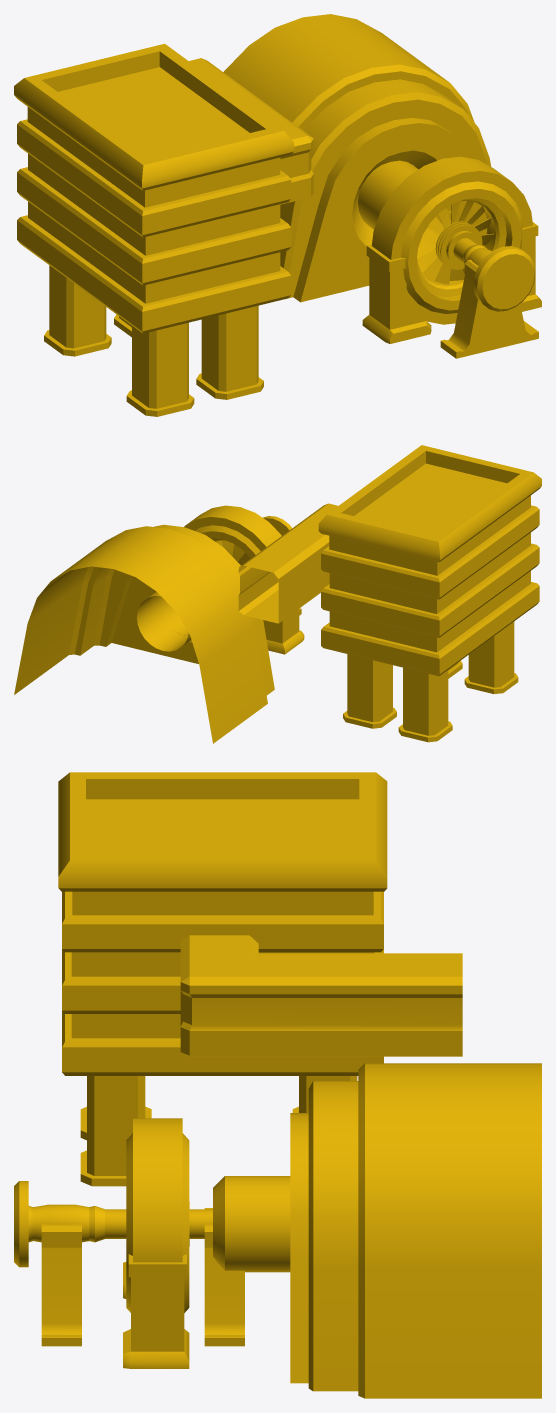
The model's file is Administration_Turbine.fbx.
3 renders of one model, top to bottom at view 1: azimuth 30°, elevation 25°; view 2: azimuth 150°, elevation 25°; view 3: azimuth 270°, elevation 25°, orthographic. The views are drawn at different scales.
Parts seen in each view (by area): view 1: Administration_Turbine1; view 2: Administration_Turbine1; view 3: Administration_Turbine1.
Part boxes in pixels (x1,y1,x2,y2): Administration_Turbine1: [14, 14, 541, 416]; Administration_Turbine1: [14, 445, 541, 743]; Administration_Turbine1: [14, 772, 541, 1398].
Size of the model in its own units: 45.13 by 23.6 by 33.91.
